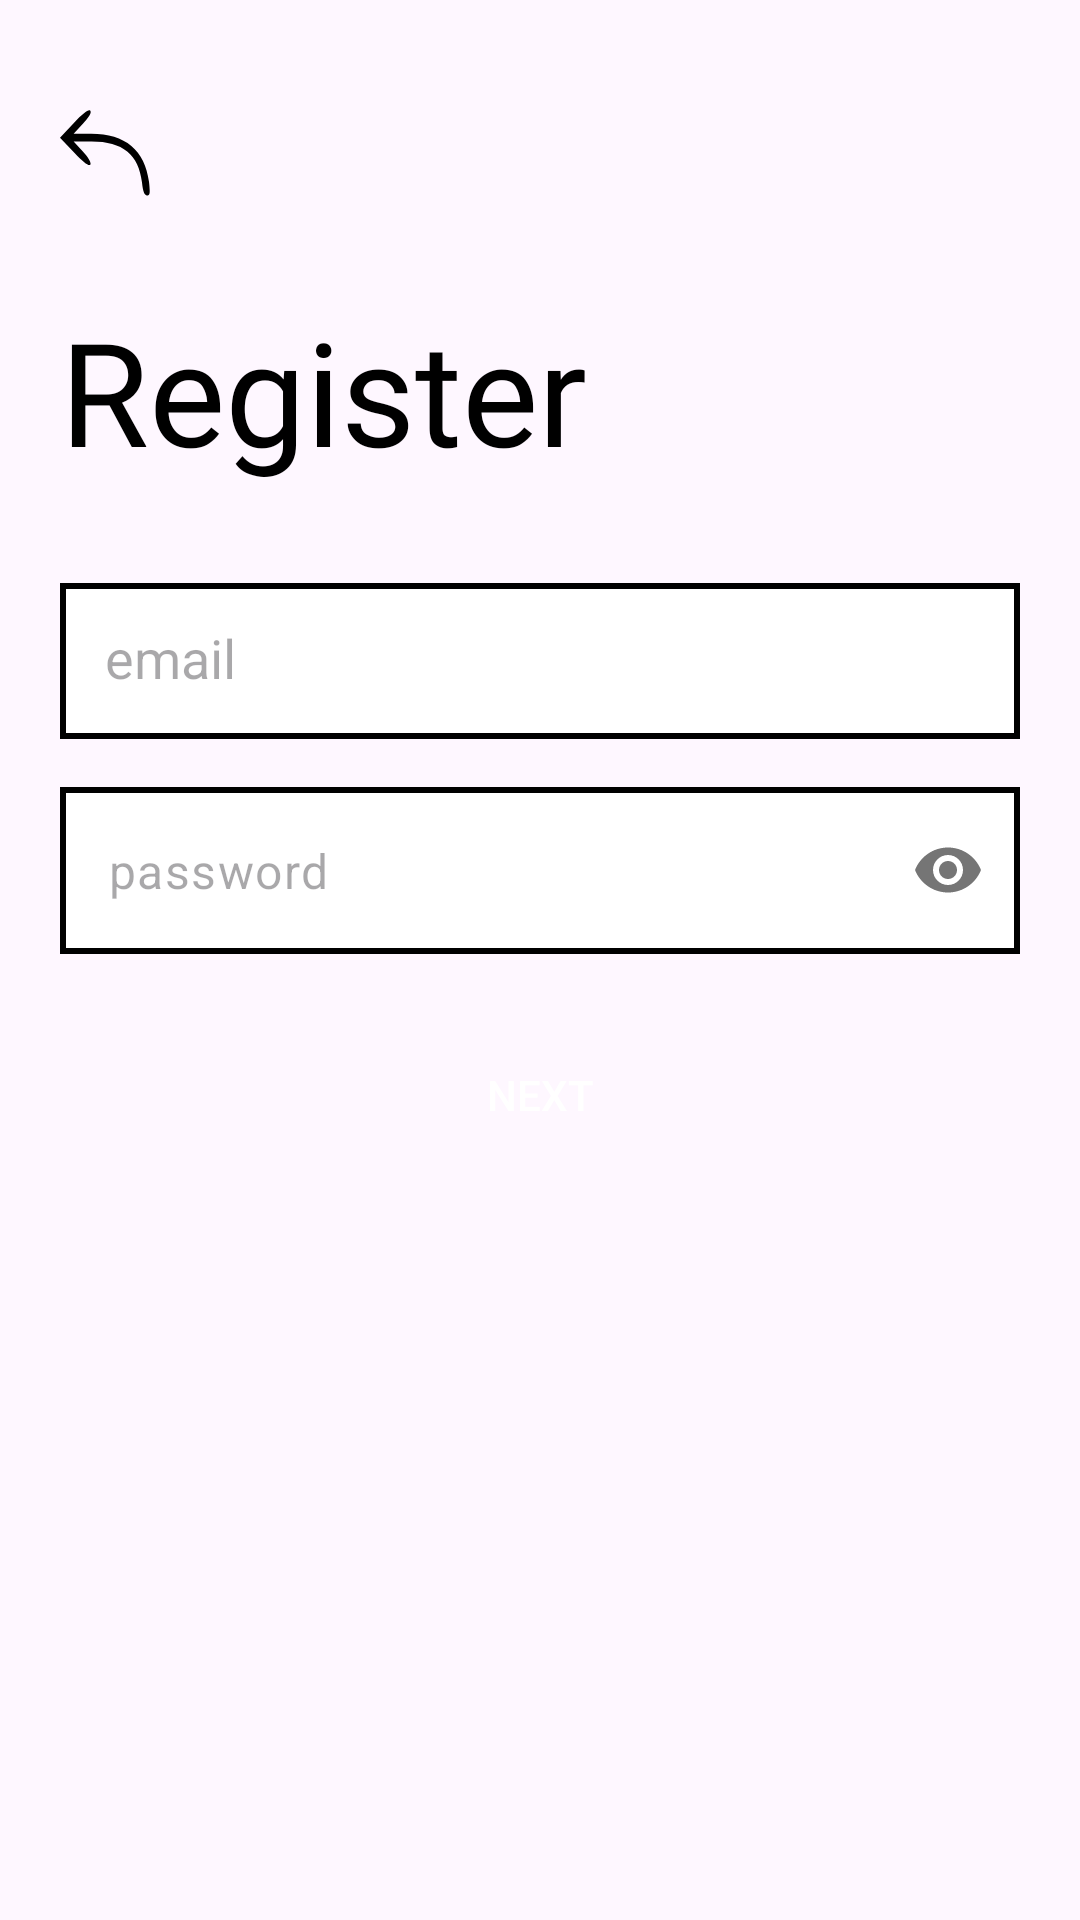

Screen size 1080 × 1920. Icon name, then its box in pixels as [x1, y1, x2, y2]:
back arrow: [60, 110, 150, 196]
